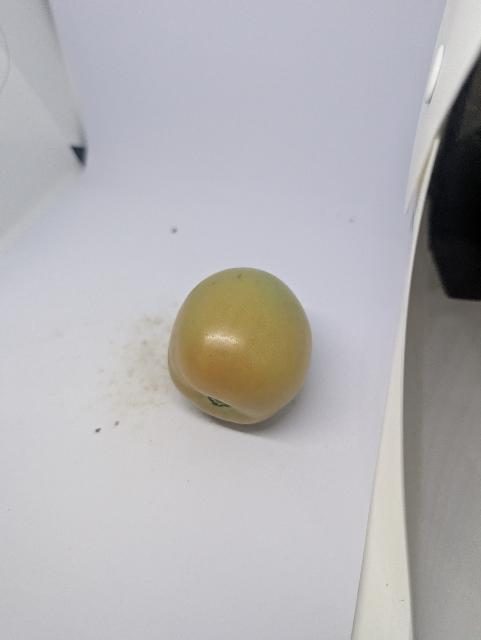breaker: (168, 268, 312, 424)
